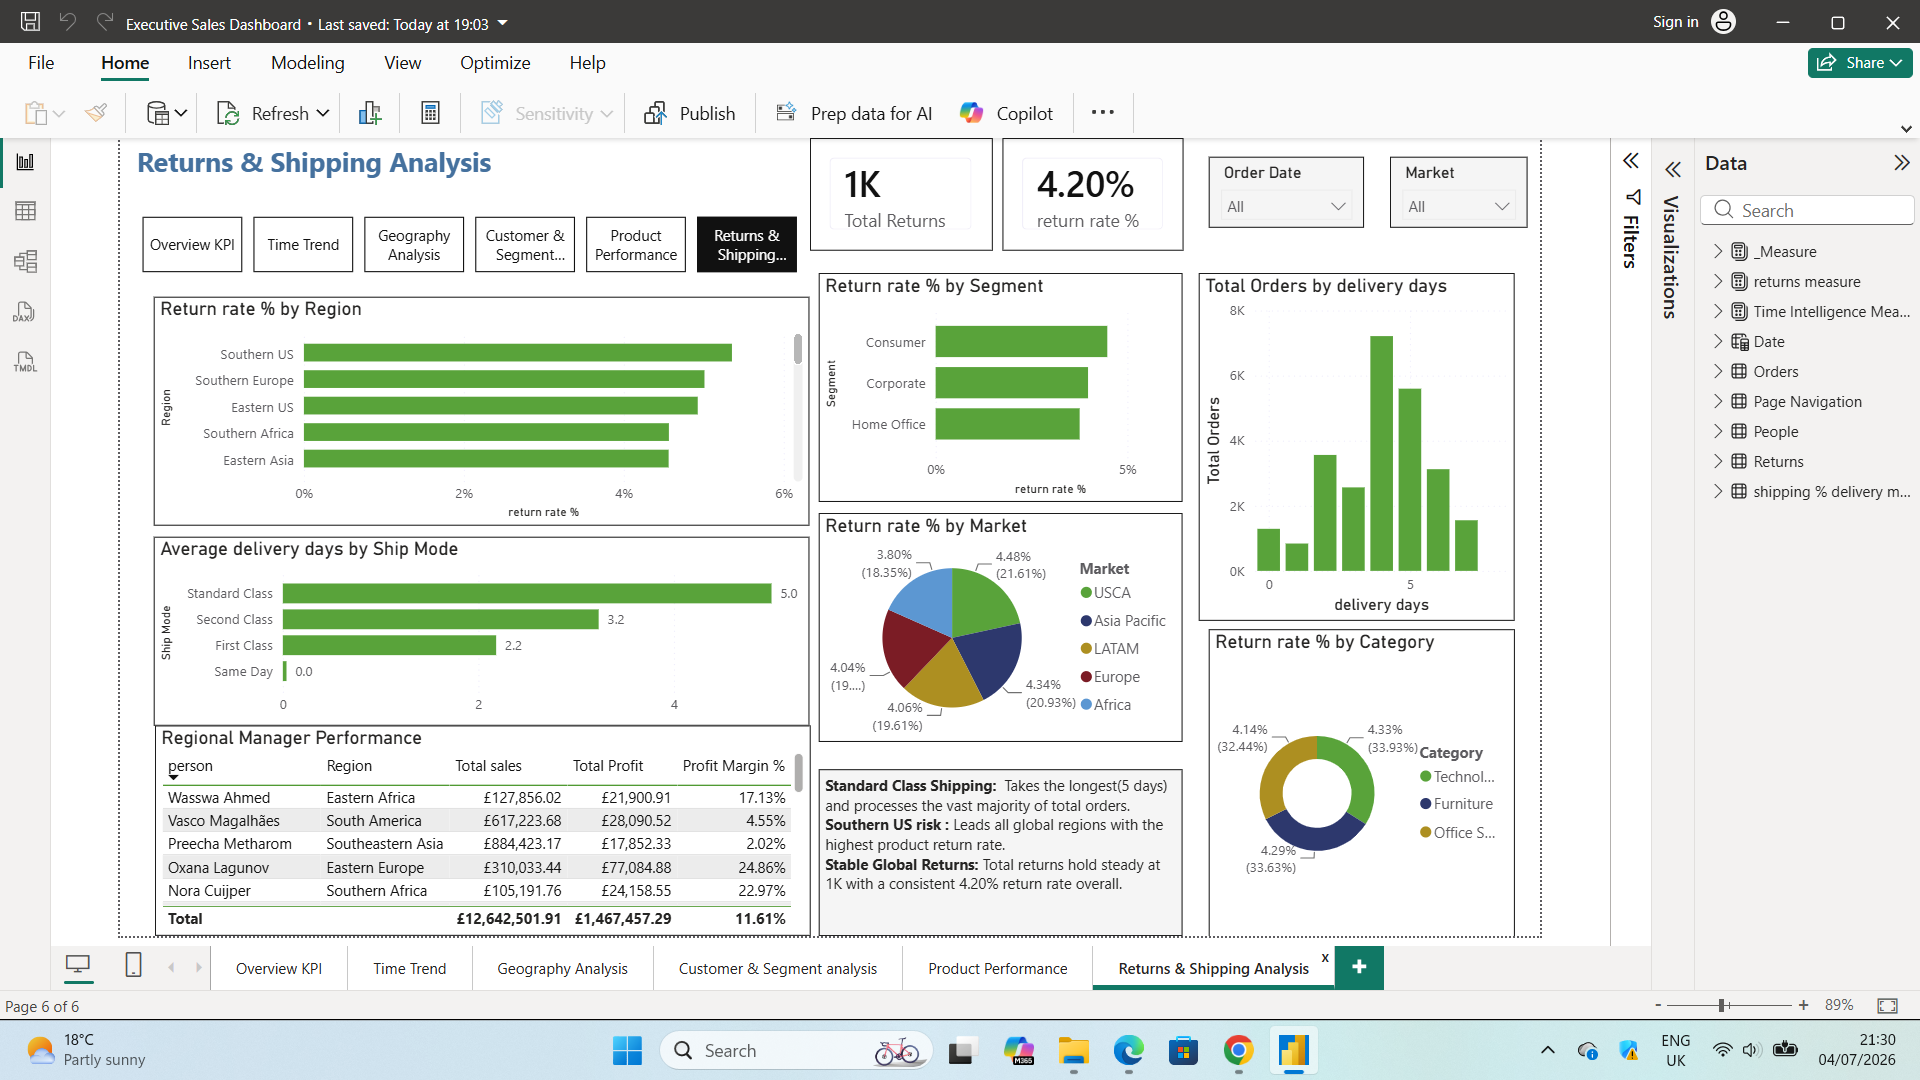

What the dashboard file says about the page in this screenshot:
{"tool":"powerbi","page":{"name":"Returns & Shipping Analysis","canvas":[1280,720],"ordinal":5},"visuals":[{"type":"textbox","box":[9.8,0,369.3,57.5],"z":0},{"type":"cardVisual","fields":{"Data":["returns measure.Total Returns"]},"box":[621.8,0,164.8,101.2],"z":1000},{"type":"cardVisual","fields":{"Data":["returns measure.return rate %"]},"box":[795.3,0,163.4,101.2],"z":2000},{"type":"pieChart","title":"Return rate % by Market","fields":{"Category":["Orders.Market"],"Y":["returns measure.return rate %"]},"box":[630.5,338.4,328.2,206.8],"z":3000},{"type":"barChart","title":"Return rate % by Region","fields":{"Y":["returns measure.return rate %"],"Category":["Orders.Region"]},"box":[30.4,143.2,591.4,206.8],"z":4000},{"type":"donutChart","title":"Return rate % by Category","fields":{"Category":["Orders.Category"],"Y":["returns measure.return rate %"]},"box":[981.8,442.5,276.2,277.6],"z":5000},{"type":"barChart","title":"Return rate % by Segment","fields":{"Category":["Orders.Segment"],"Y":["returns measure.return rate %"]},"box":[630.5,121.5,328.2,206.8],"z":6000},{"type":"barChart","title":"Average delivery days by Ship Mode","fields":{"Category":["Orders.Ship Mode"],"Y":["shipping % delivery measure.average delivery days"]},"box":[30.4,360.1,591.4,170.6],"z":7000},{"type":"columnChart","fields":{"Category":["Orders.delivery days"],"Y":["_Measure.Total Orders"]},"box":[973.2,121.5,284.9,313.8],"z":8000},{"type":"tableEx","title":"Regional Manager Performance","fields":{"Values":["People.Column1","Orders.Region","_Measure.Total sales","_Measure.Total Profit","_Measure.Profit Margin %"]},"box":[31,530,590.9,189.9],"z":9000},{"type":"slicer","fields":{"Values":["Orders.Market"]},"box":[1145.2,17.4,124.4,63.6],"z":10000},{"type":"slicer","fields":{"Values":["Orders.Order Date"]},"box":[981.8,17.4,140.3,63.6],"z":11000},{"type":"pageNavigator","box":[20.2,70.9,591.4,50.6],"z":12000},{"type":"textbox","box":[630.6,569.8,327.7,150.2],"z":13000}]}

Visuals, with their boxes on the page's 1280x720 design canvas (x1, y1, x2, y2). These are canvas units, not pixel positions in the 1920x1080 screenshot, which may show the page scaled, cropped or inside an application window:
textbox: [x1=10, y1=0, x2=379, y2=58]
cardVisual - returns measure.Total Returns: [x1=622, y1=0, x2=787, y2=101]
cardVisual - returns measure.return rate %: [x1=795, y1=0, x2=959, y2=101]
"Return rate % by Market" pieChart: [x1=630, y1=338, x2=959, y2=545]
"Return rate % by Region" barChart: [x1=30, y1=143, x2=622, y2=350]
"Return rate % by Category" donutChart: [x1=982, y1=442, x2=1258, y2=720]
"Return rate % by Segment" barChart: [x1=630, y1=122, x2=959, y2=328]
"Average delivery days by Ship Mode" barChart: [x1=30, y1=360, x2=622, y2=531]
columnChart - Orders.delivery days x _Measure.Total Orders: [x1=973, y1=122, x2=1258, y2=435]
"Regional Manager Performance" tableEx: [x1=31, y1=530, x2=622, y2=720]
slicer - Orders.Market: [x1=1145, y1=17, x2=1270, y2=81]
slicer - Orders.Order Date: [x1=982, y1=17, x2=1122, y2=81]
pageNavigator: [x1=20, y1=71, x2=612, y2=122]
textbox: [x1=631, y1=570, x2=958, y2=720]
